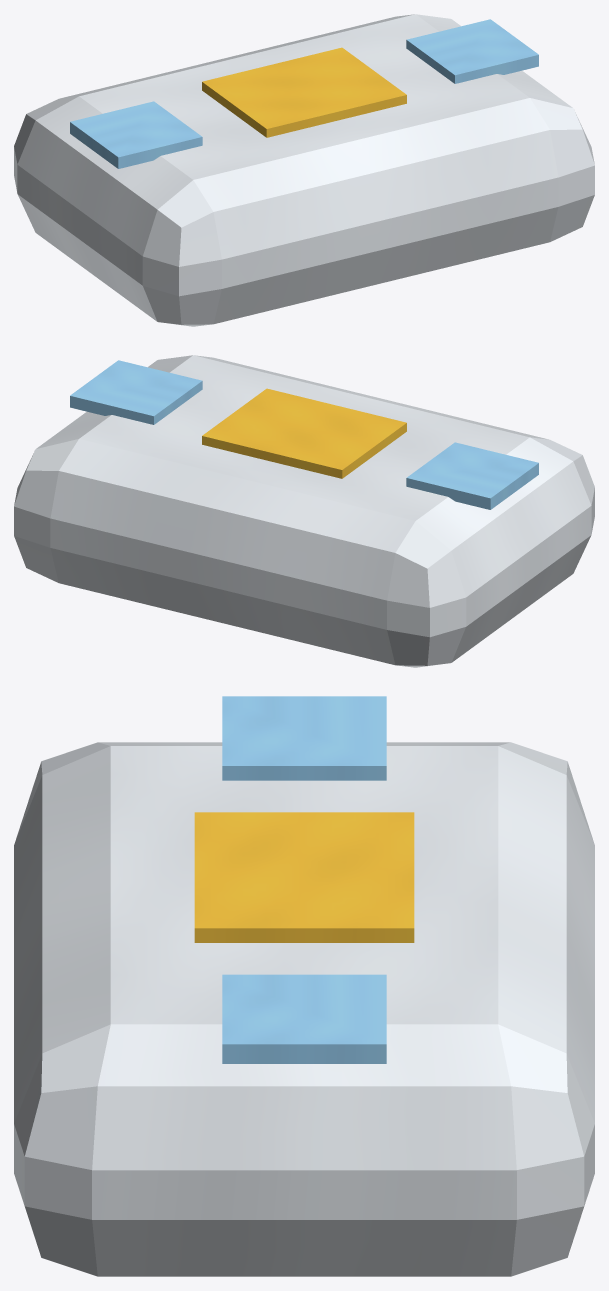
File: T_diaper.glb
The picture shows the model from 3 angles, top to bottom: view 1: azimuth 30°, elevation 25°; view 2: azimuth 150°, elevation 25°; view 3: azimuth 270°, elevation 25°; orthographic projection. The views are drawn at different scales.
Visible parts, largest first — view 1: Diaper; view 2: Diaper; view 3: Diaper.
Part boxes in pixels (x1,y1,x2,y2): Diaper: (14, 14, 594, 326); Diaper: (14, 355, 594, 667); Diaper: (14, 696, 594, 1276).
Bounding box in the file's own units: 0.16 × 0.053 × 0.1059.
Materials: 1 (1 with a texture image).
